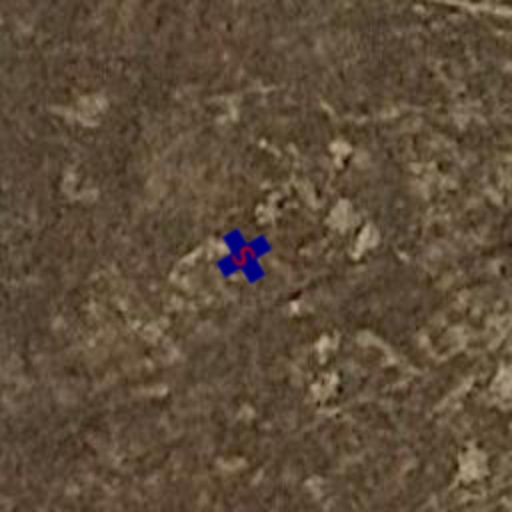cross: (204, 216, 284, 296)
